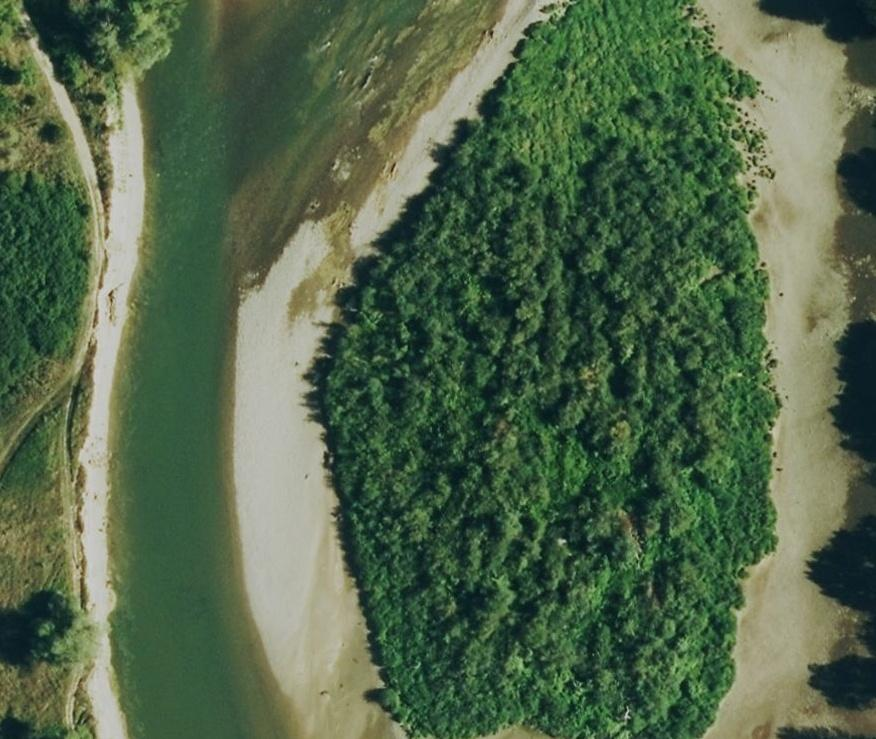forest: (317, 3, 777, 736), (0, 171, 87, 408)
lake: (111, 2, 498, 737)
